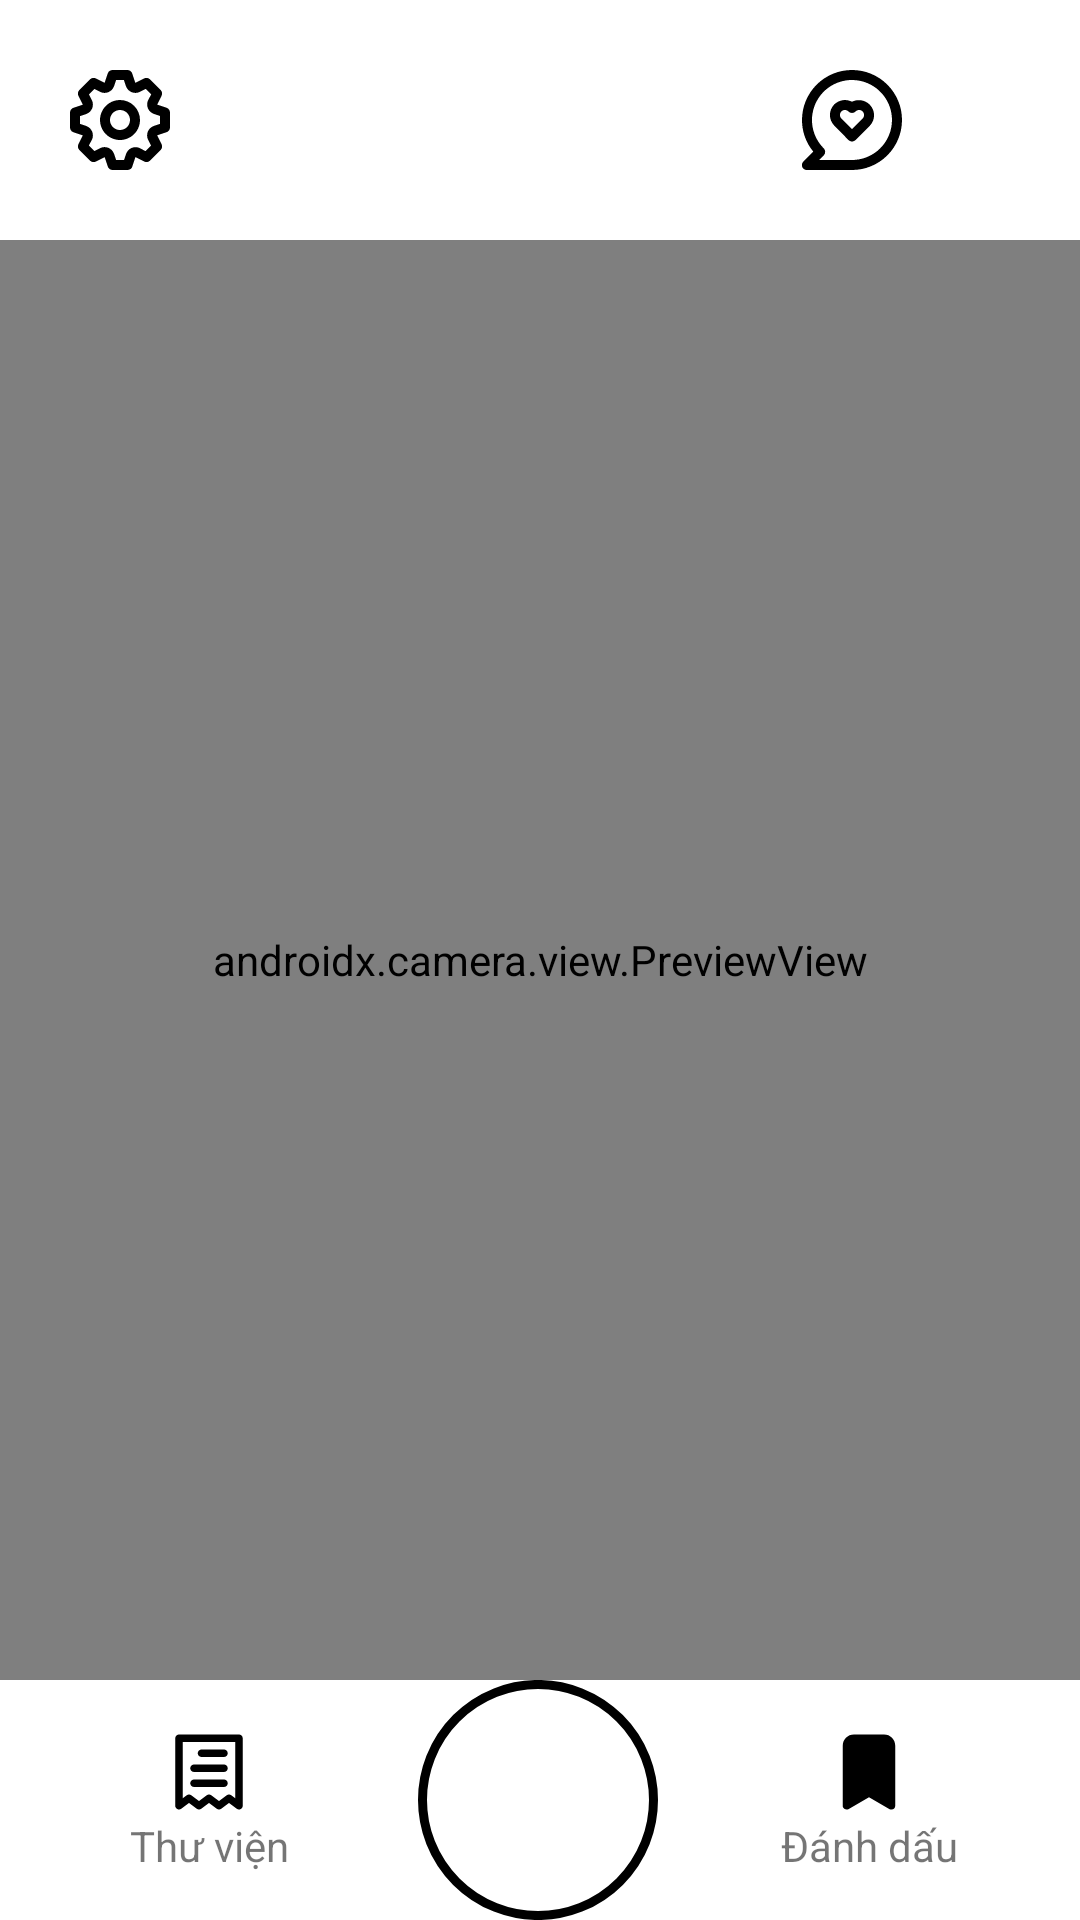

Screen size 1080px×1920px. Icon name, then its center in pixels as [x,y]:
settings: [120,120]
support: [852,120]
